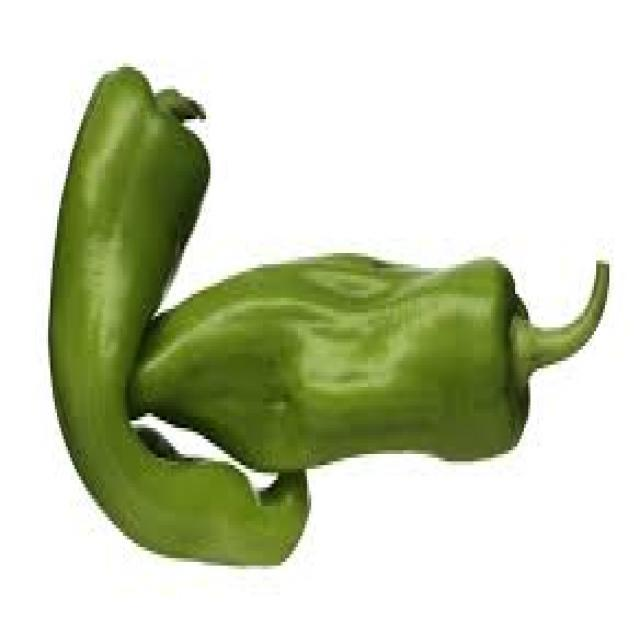Pepper: (47, 70, 611, 569), (47, 68, 310, 568), (130, 254, 609, 478)
